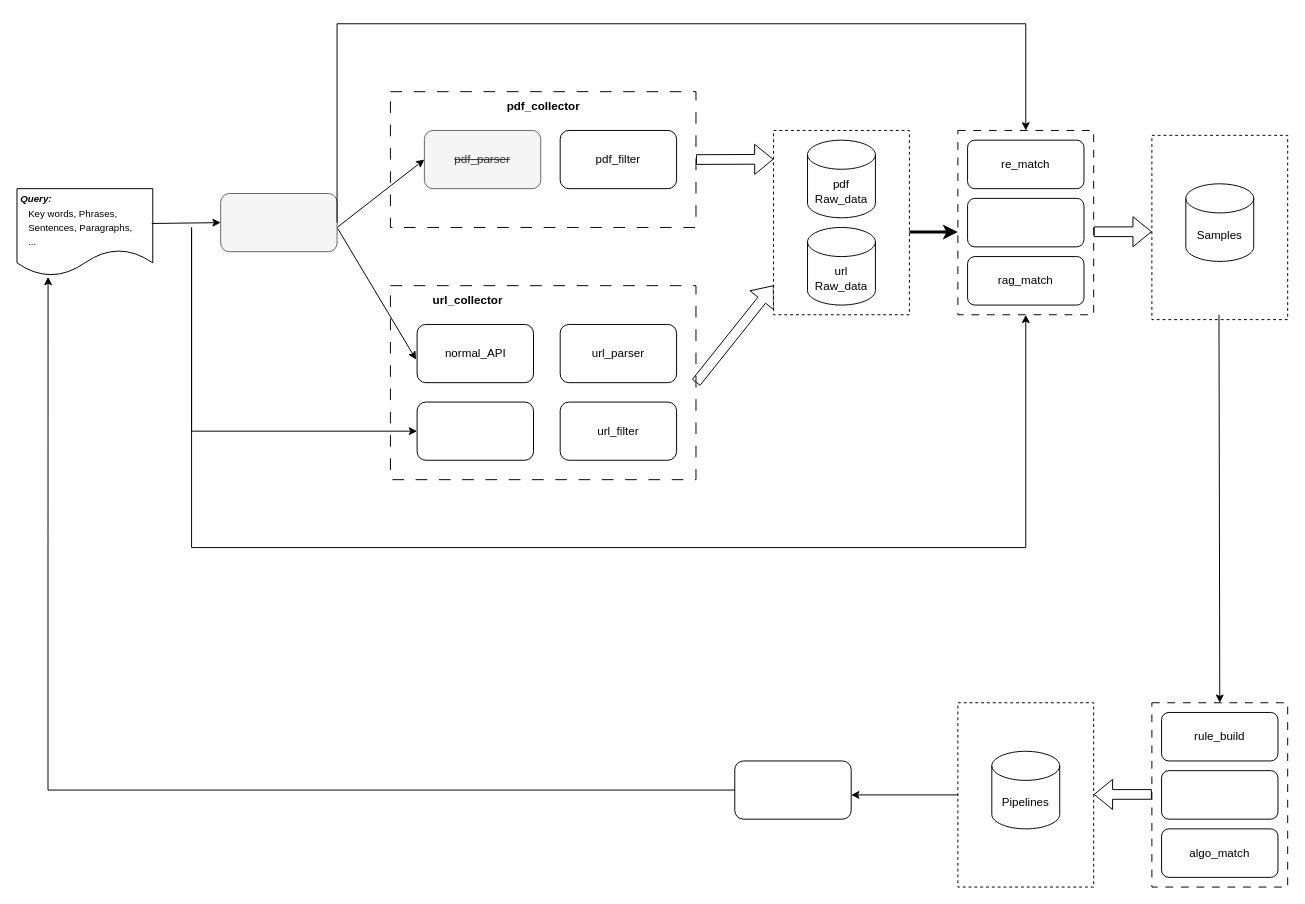
This 1305x904 diagram has some shape labels left out. The centre of each missing label's shape, as x and y in pixels:
"lm_build" goes at pixel 1219 794.
"lm_match" goes at pixel 1025 222.
"optimiazed_API" goes at pixel 475 430.
"summarizer" goes at pixel 278 222.
"visualizer" goes at pixel 792 789.
